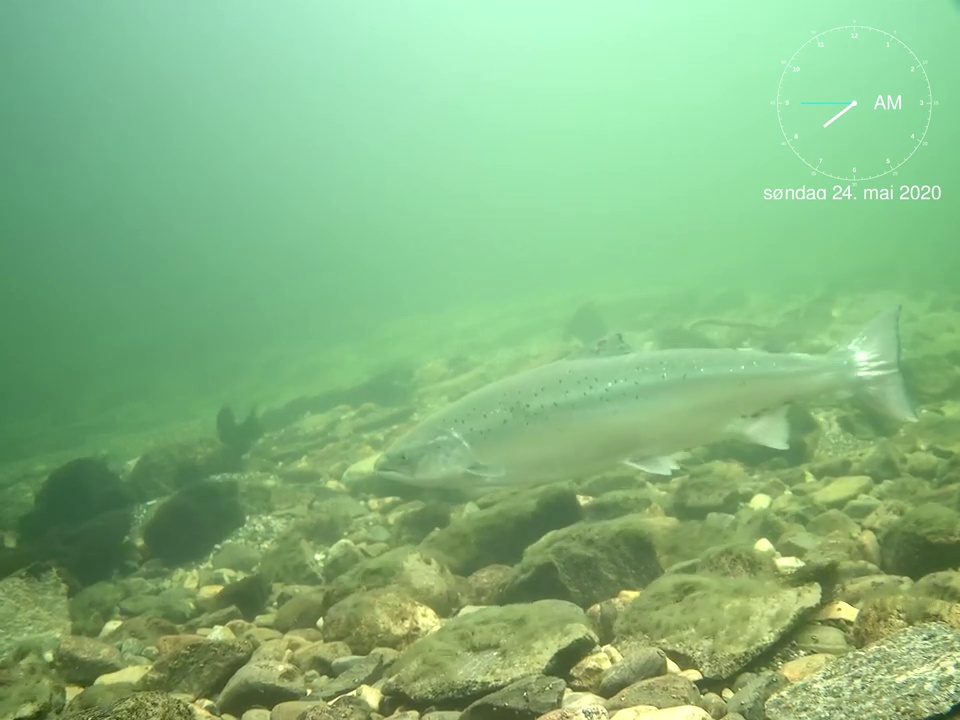salmon: (372, 302, 920, 493)
